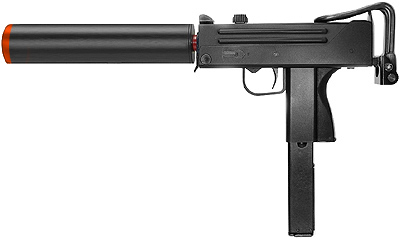rifle: (3, 6, 393, 235)
